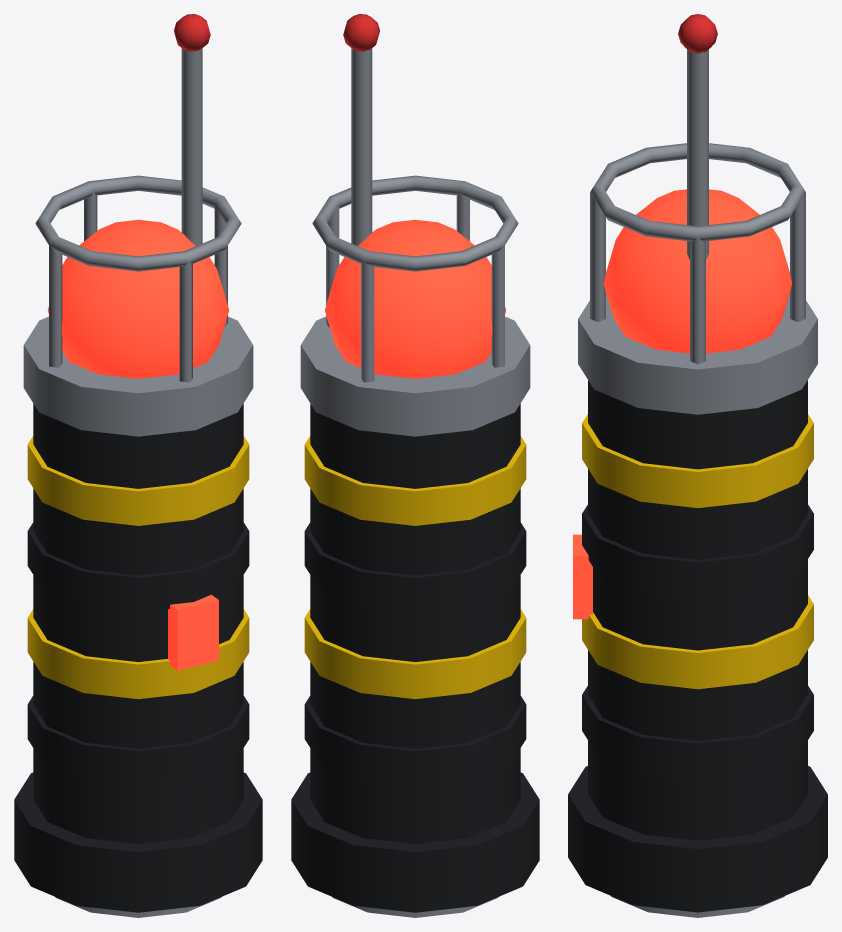
The model's file is meteores.glb.
3 renders of one model, left to right at view 1: azimuth 30°, elevation 25°; view 2: azimuth 150°, elevation 25°; view 3: azimuth 270°, elevation 25°, orthographic. The views are drawn at different scales.
Size of the model in its own units: 0.052 by 0.196 by 0.052.
